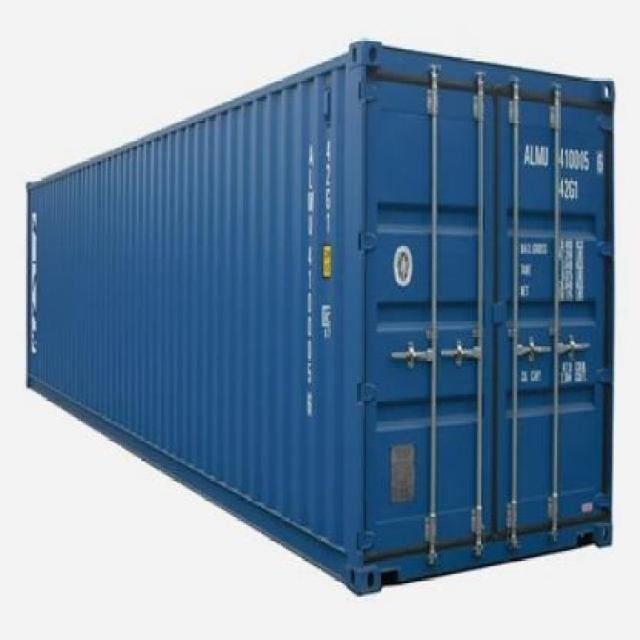ISO: (557, 175, 581, 198)
container_number: (522, 148, 602, 171)
